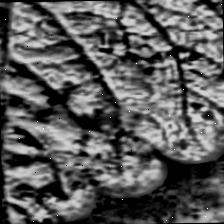Angular Leafspot: (0, 50, 169, 224)
